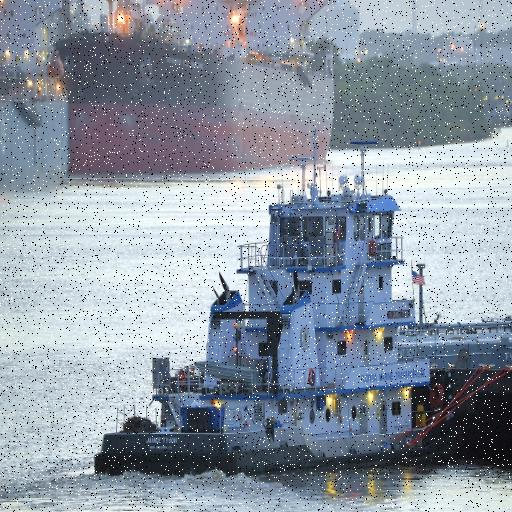tugboat: (88, 139, 483, 484)
